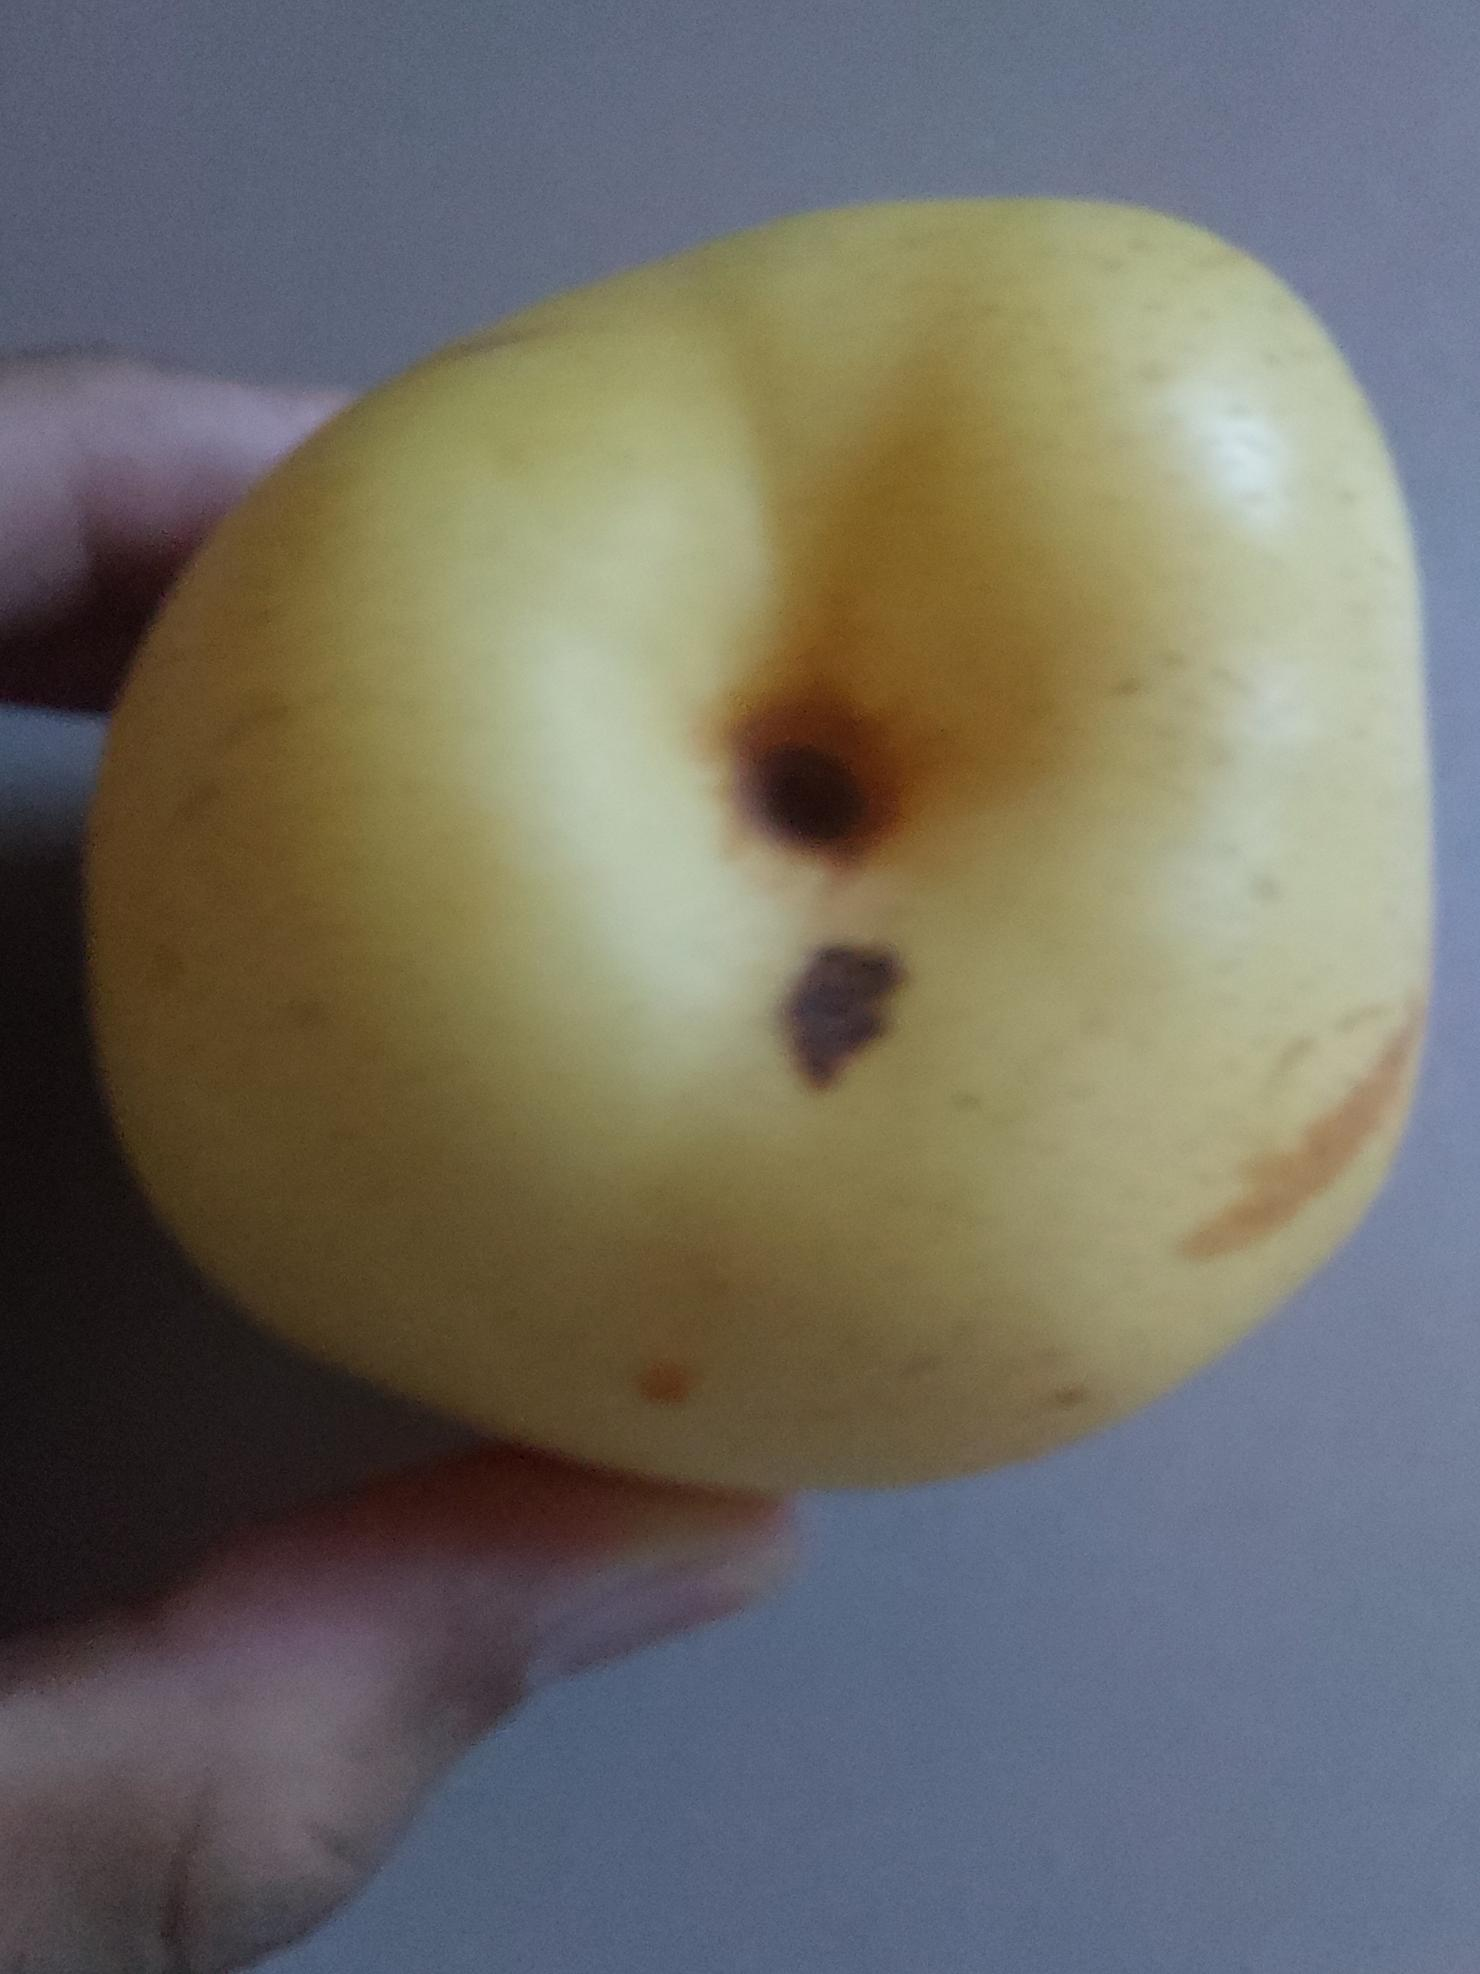Good Pear: (113, 192, 1439, 1504)
